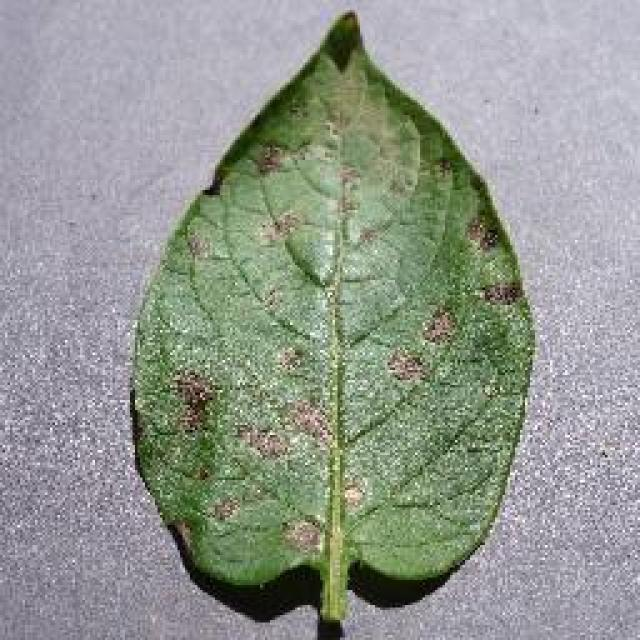early_blight: (122, 7, 540, 625)
